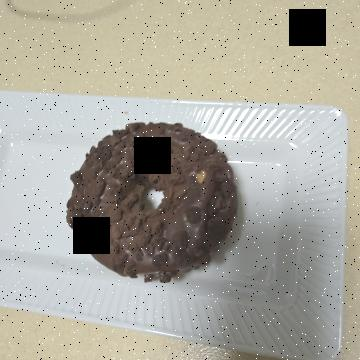doughnut: (95, 120, 290, 308)
